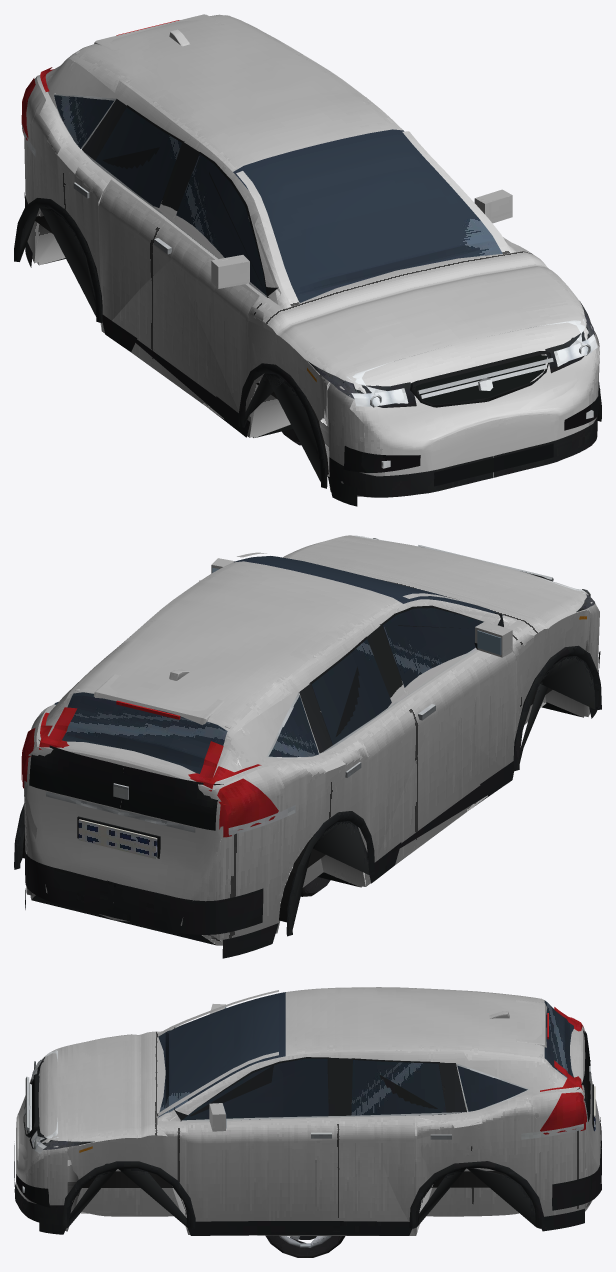
File: crest12.glb
3 renders of one model, top to bottom at view 1: azimuth 30°, elevation 25°; view 2: azimuth 150°, elevation 25°; view 3: azimuth 270°, elevation 25°, orthographic. The views are drawn at different scales.
Visible parts, largest first — view 1: Paint, Body, Body_far, Paint_far; view 2: Paint, Body, Body_far, Paint_far; view 3: Paint, Body, Body_far, Paint_far, Wheel, Wheel_far.
Boxes of the visible parts, x1,y1,x2,y2 form: Paint: (24, 14, 599, 497); Body: (14, 68, 601, 506); Body_far: (20, 20, 593, 481); Paint_far: (31, 17, 580, 489); Paint: (24, 535, 599, 945); Body: (14, 535, 601, 958); Body_far: (20, 536, 596, 928); Paint_far: (24, 565, 591, 941); Paint: (16, 987, 600, 1236); Body: (14, 992, 601, 1235); Body_far: (22, 1008, 600, 1227); Paint_far: (19, 1018, 600, 1235); Wheel: (265, 1235, 345, 1257); Wheel_far: (283, 1236, 339, 1256).
Bounding box in the file's own units: 1.97 × 2 × 4.42.
3 materials, 3 textured.
